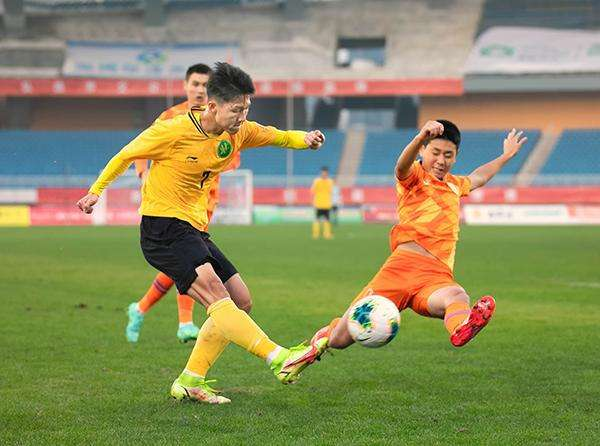football: (347, 296, 403, 348)
